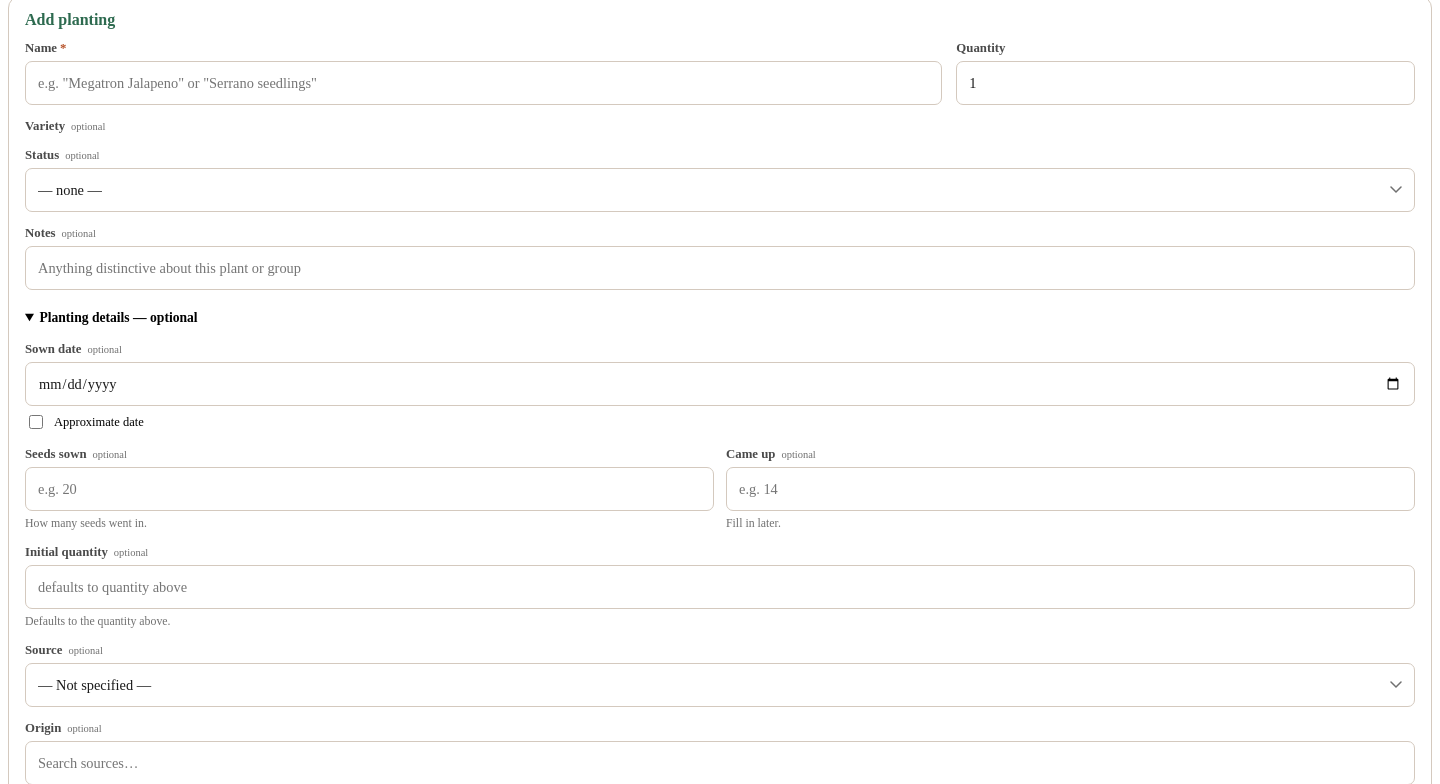
PlantingEditor onDirty › stays dirty when the save FAILS — the typing is still only in the browser
Type "Sungold" into the field labelled "Name*" at (484, 83), box x1=25 y1=61 x2=942 y2=105
(page scrolled)
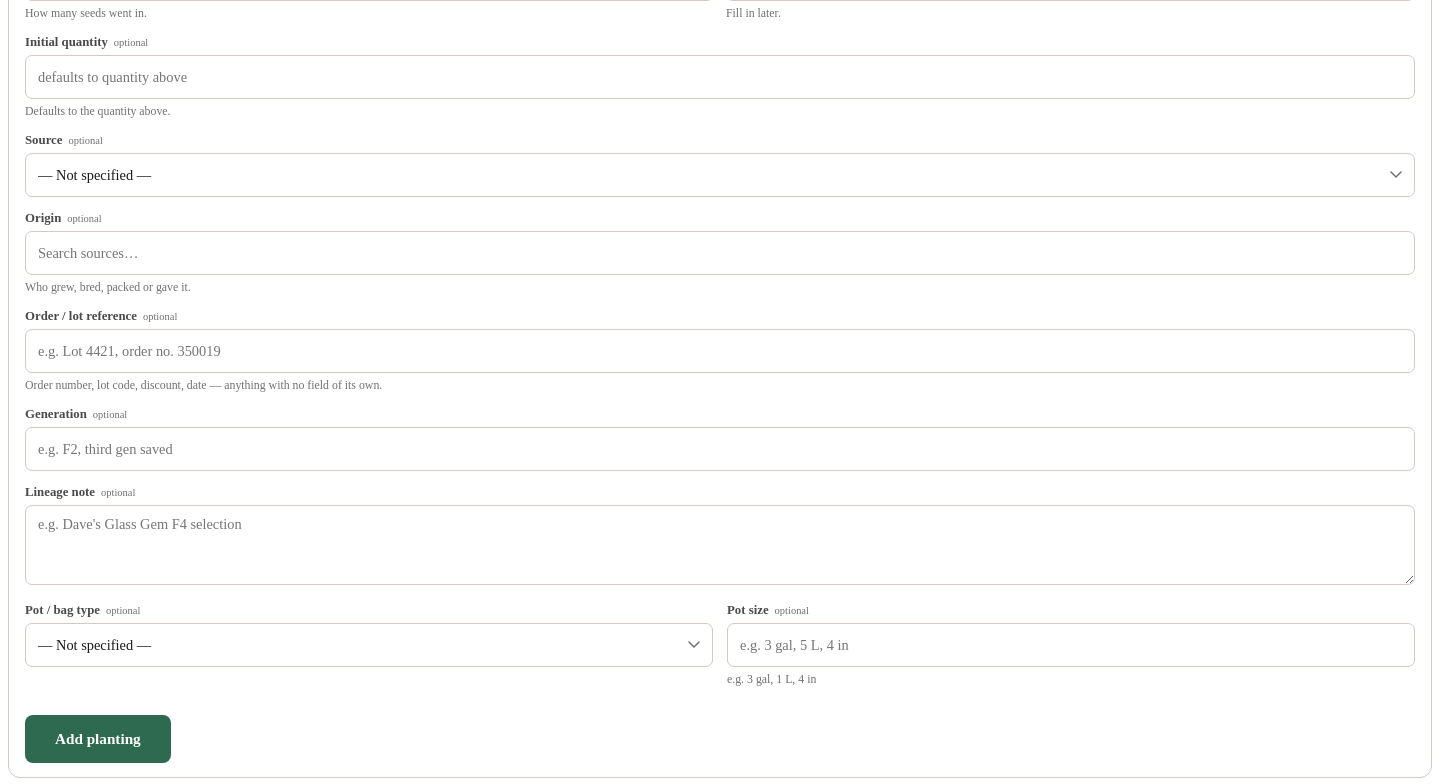
Click the button "Add planting" at (98, 739), box x1=25 y1=715 x2=171 y2=763
(page scrolled)
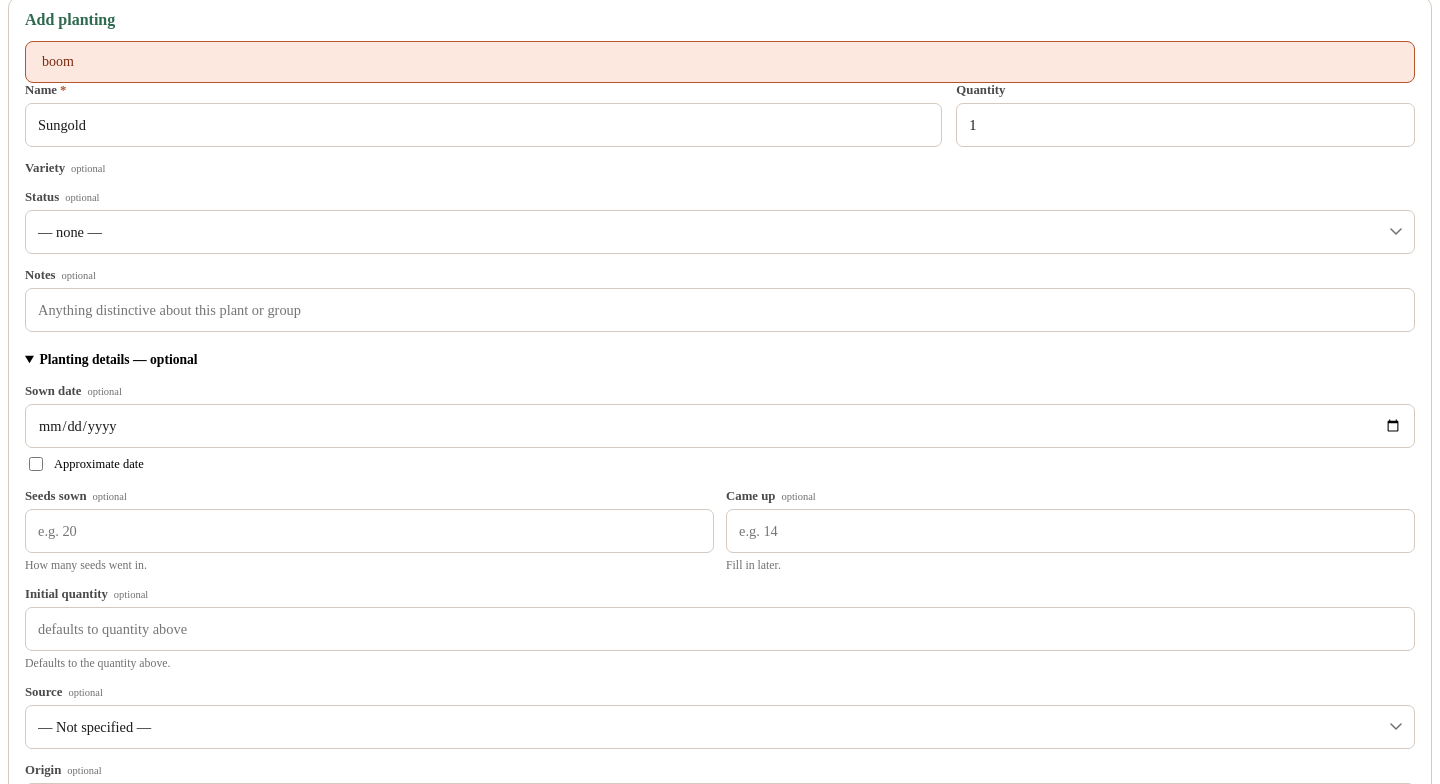
Expected: the text "boom" is shown, x1=25 y1=41 x2=1415 y2=83
